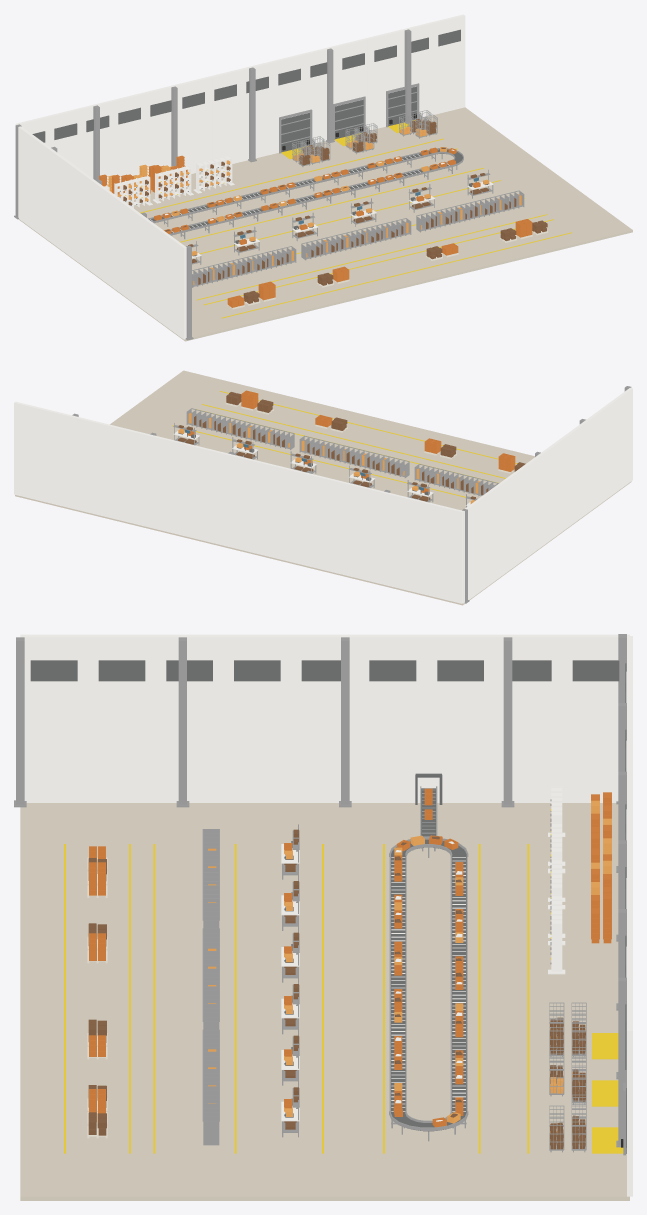
Rendered from ecommerce.glb.
3 views of the same model, one above another, from view 1: azimuth 30°, elevation 25°; view 2: azimuth 150°, elevation 25°; view 3: azimuth 270°, elevation 25° (orthographic). The views are drawn at different scales.
Parts seen in each view (by area): view 1: hall_floor, hall_wall_y, hall_wall_x, hall_wall_y_windows, hall_cols_y, conv_frame, boxwall_1_frame, boxwall_2_frame, boxwall_0_frame, conv_bed, putwall_3_frame, dock_0_door (+9 smaller); view 2: hall_wall_y, hall_floor, hall_wall_x, boxwall_1_frame, boxwall_2_frame, boxwall_0_frame, lane_zone, boxwall_1_load_a, boxwall_2_load_a, hall_cols_y; view 3: hall_floor, hall_wall_x, hall_wall_x_windows, hall_cols_x, conv_bed, hall_cols_y, hall_wall_y, conv_frame, boxwall_2_frame, conv_rollers, boxwall_1_frame, boxwall_0_frame (+6 smaller).
Boxes of the visible parts, bbox=[...] form: hall_floor: bbox=[18, 107, 632, 341]; hall_wall_y: bbox=[16, 14, 465, 185]; hall_wall_x: bbox=[15, 124, 186, 339]; hall_wall_y_windows: bbox=[32, 29, 460, 142]; hall_cols_y: bbox=[14, 29, 411, 219]; conv_frame: bbox=[148, 148, 463, 239]; boxwall_1_frame: bbox=[301, 218, 411, 260]; boxwall_2_frame: bbox=[416, 190, 524, 232]; boxwall_0_frame: bbox=[192, 246, 296, 287]; conv_bed: bbox=[149, 149, 462, 233]; putwall_3_frame: bbox=[193, 155, 234, 193]; dock_0_door: bbox=[281, 113, 309, 152]; hall_wall_y: bbox=[14, 401, 462, 603]; hall_floor: bbox=[15, 370, 631, 605]; hall_wall_x: bbox=[461, 387, 632, 603]; boxwall_1_frame: bbox=[299, 435, 409, 477]; boxwall_2_frame: bbox=[186, 408, 294, 449]; boxwall_0_frame: bbox=[414, 464, 498, 496]; lane_zone: bbox=[202, 391, 517, 478]; boxwall_1_load_a: bbox=[307, 443, 399, 475]; boxwall_2_load_a: bbox=[194, 416, 284, 447]; hall_cols_y: bbox=[72, 413, 469, 603]; hall_floor: bbox=[20, 803, 629, 1200]; hall_wall_x: bbox=[20, 634, 629, 802]; hall_wall_x_windows: bbox=[30, 660, 619, 681]; hall_cols_x: bbox=[14, 637, 514, 807]; conv_bed: bbox=[391, 839, 466, 1131]; hall_cols_y: bbox=[616, 634, 626, 1147]; hall_wall_y: bbox=[626, 636, 632, 1196]; conv_frame: bbox=[389, 837, 468, 1141]; boxwall_2_frame: bbox=[202, 1029, 219, 1145]; conv_rollers: bbox=[391, 857, 465, 1111]; boxwall_1_frame: bbox=[202, 928, 219, 1029]; boxwall_0_frame: bbox=[202, 829, 219, 928].
Bounding box in the file's own units: 46.31 × 9.22 × 30.46.
